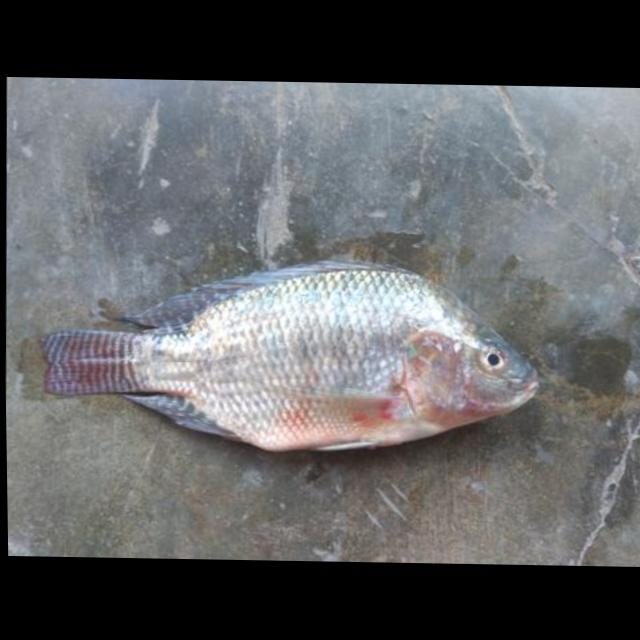Tilapia: (38, 254, 544, 456)
